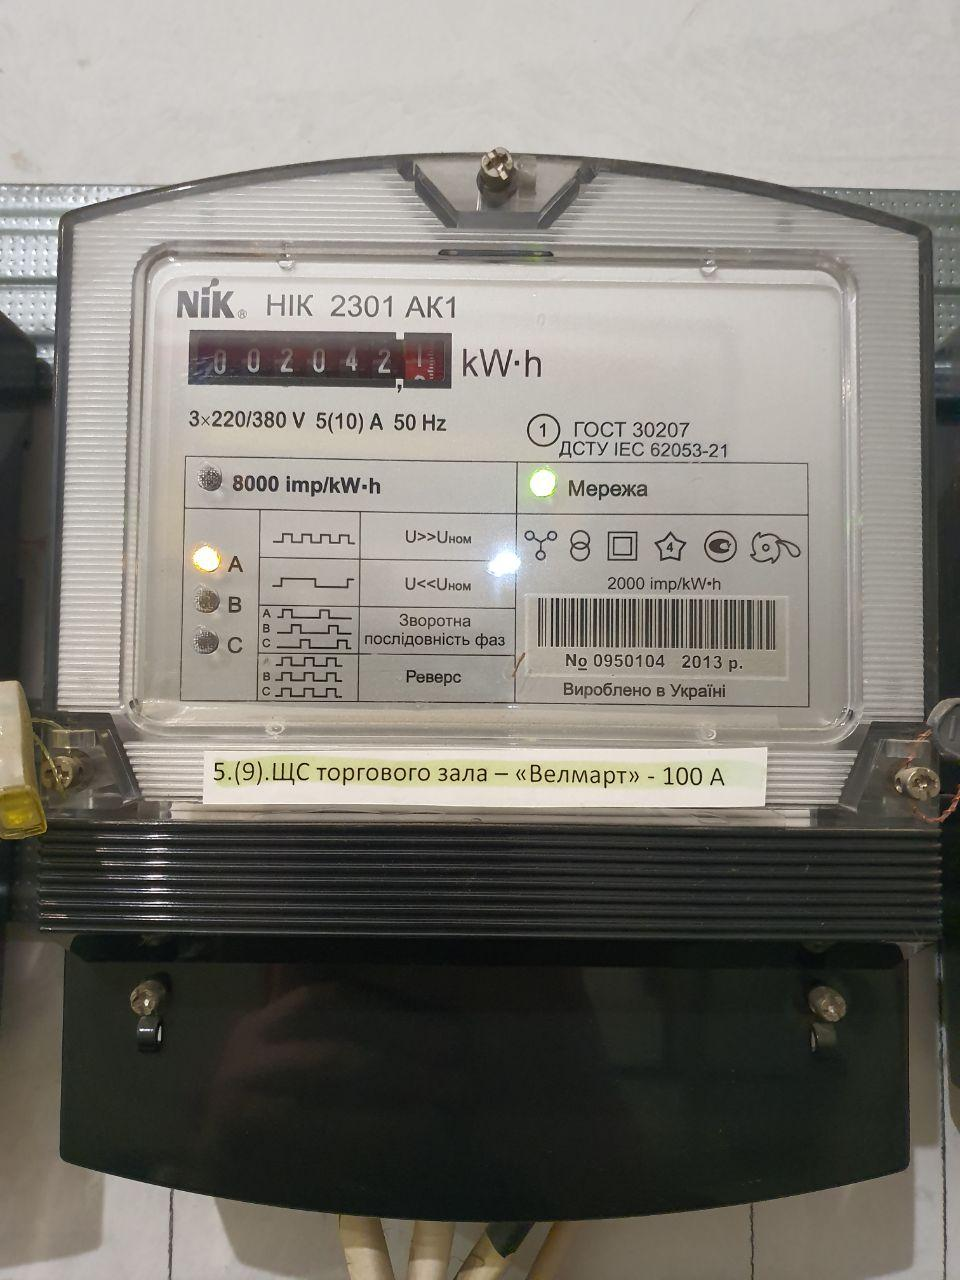counter: (36, 140, 944, 1228)
counter_screen: (185, 322, 458, 397)
